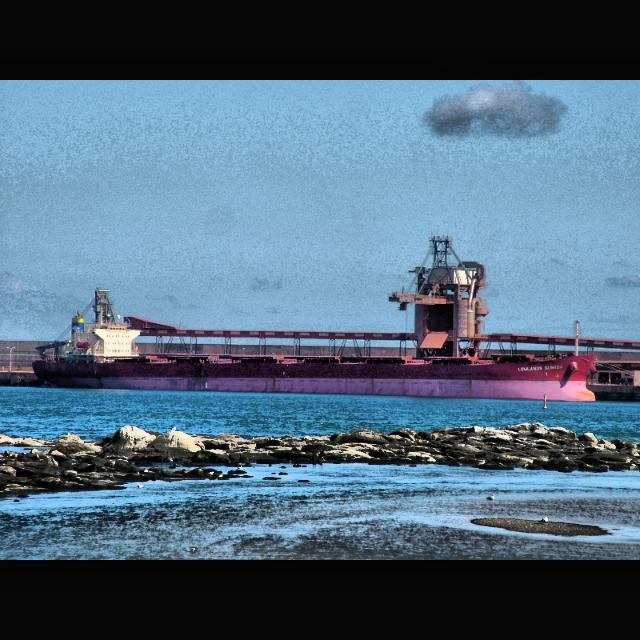bulk_carrier: (30, 234, 598, 404)
